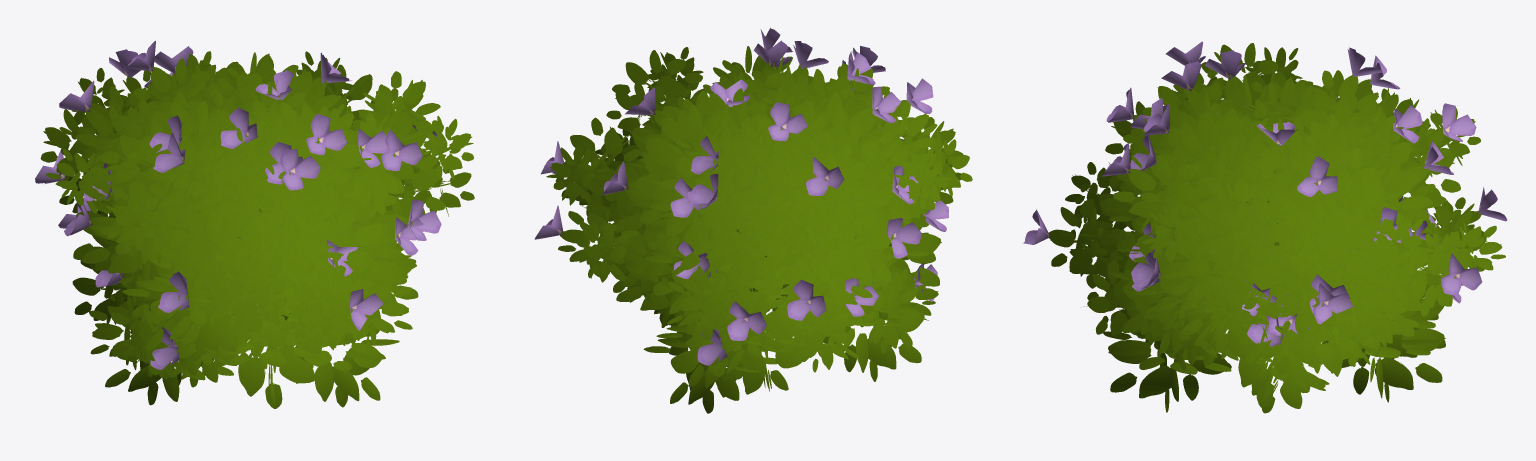
File: Bush_Common_Flowers.glb
3 views of the same model, side by side, from view 1: azimuth 30°, elevation 25°; view 2: azimuth 150°, elevation 25°; view 3: azimuth 270°, elevation 25° (orthographic). The views are drawn at different scales.
Parts seen in each view (by area): view 1: Bush_Common_Flowers; view 2: Bush_Common_Flowers; view 3: Bush_Common_Flowers.
Boxes of the visible parts, bbox=[...] form: Bush_Common_Flowers: bbox=[35, 40, 474, 408]; Bush_Common_Flowers: bbox=[534, 27, 972, 413]; Bush_Common_Flowers: bbox=[1023, 41, 1507, 413].
Bounding box in the file's own units: 1.91 × 1.58 × 1.97.
Materials: 2 (2 with a texture image).
